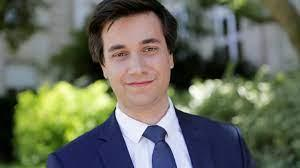Persons: (82, 0, 197, 113)
